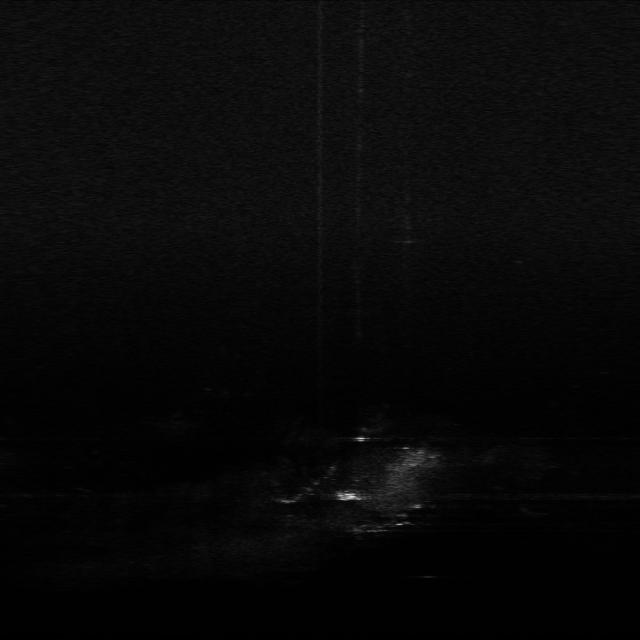rov: (334, 489, 362, 504)
